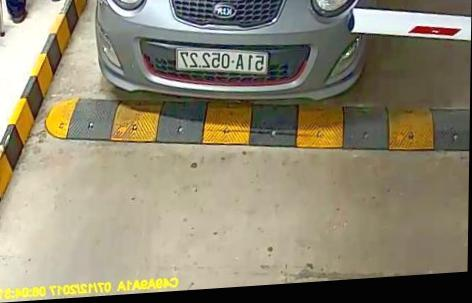License_Plate: (176, 41, 271, 78)
